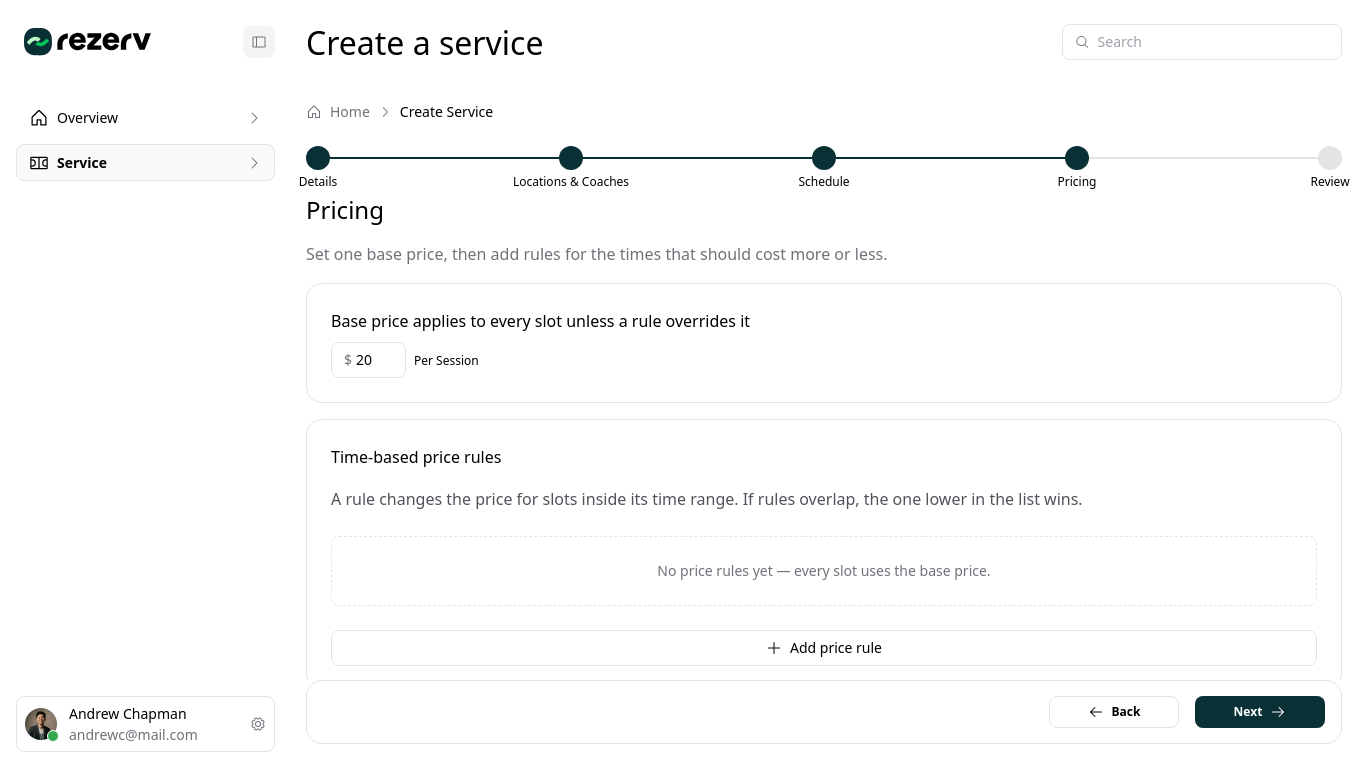
Test: Add price rule appends a rule, and Remove takes it away
Expected: the text "No price rules yet — every slot uses the base price." is shown, x1=331 y1=536 x2=1317 y2=606
Click the button "Add price rule": click(824, 648) x1=331 y1=630 x2=1317 y2=666
(page scrolled)
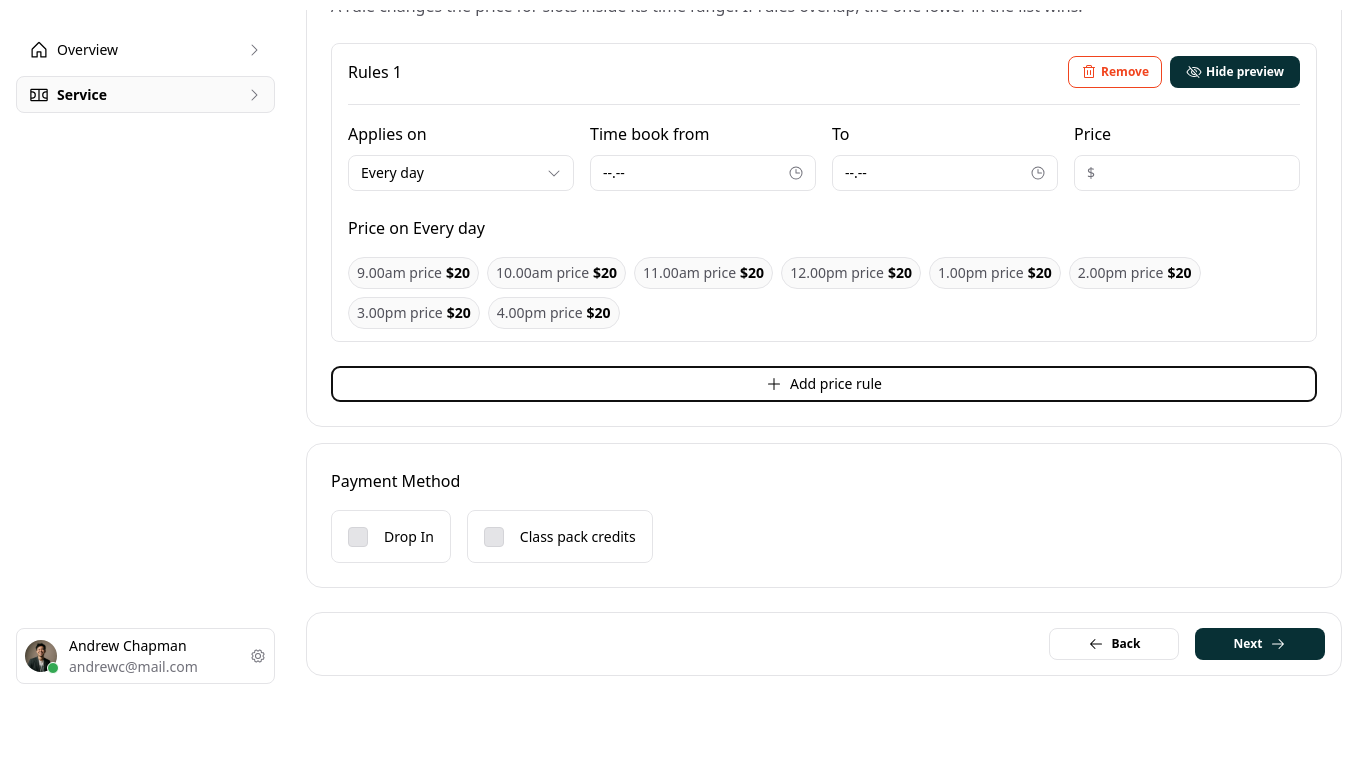
Expected: the text "Rules 1" is shown, x1=348 y1=59 x2=402 y2=85
Click the button "Add price rule": click(824, 384) x1=331 y1=366 x2=1317 y2=402
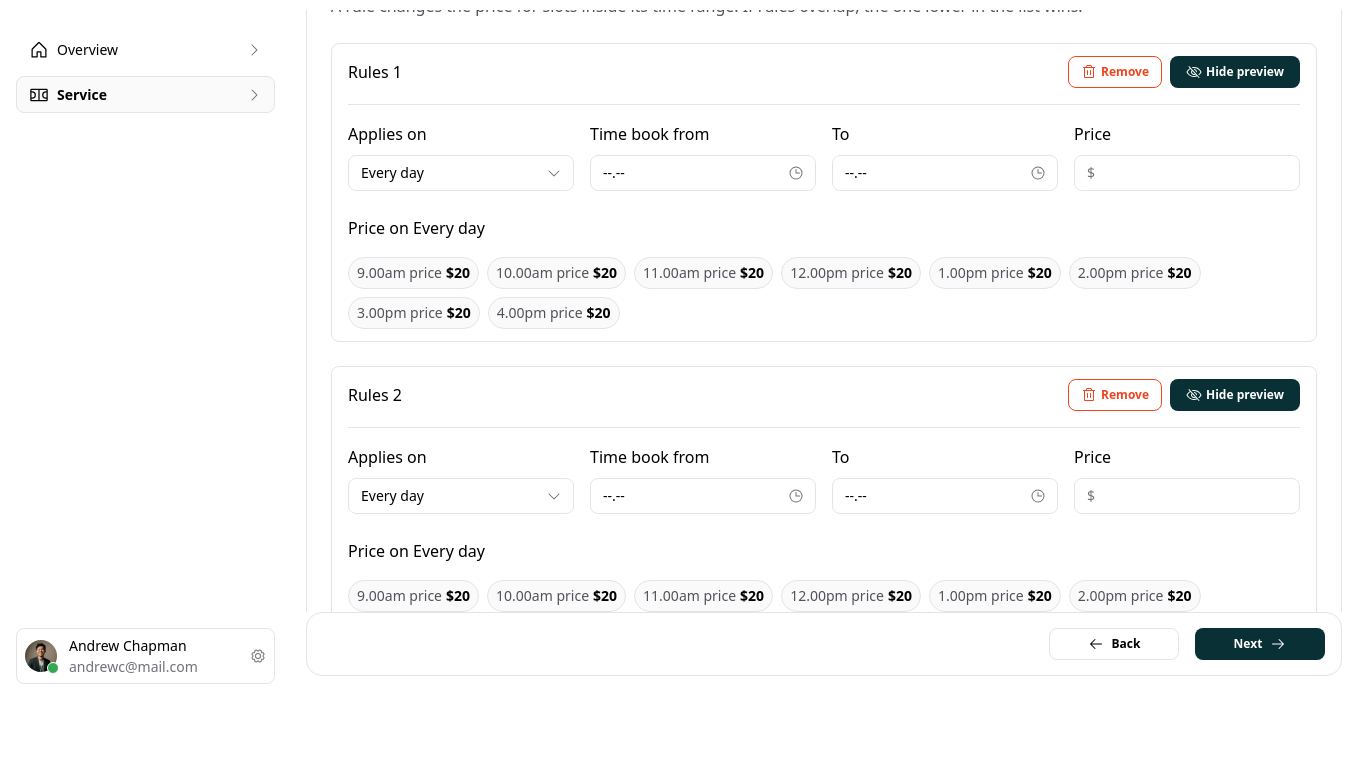
Expected: the text "Rules 2" is shown, x1=348 y1=382 x2=402 y2=408
Click the button with aria-label "Remove rule 1": click(1115, 72) x1=1068 y1=56 x2=1162 y2=88
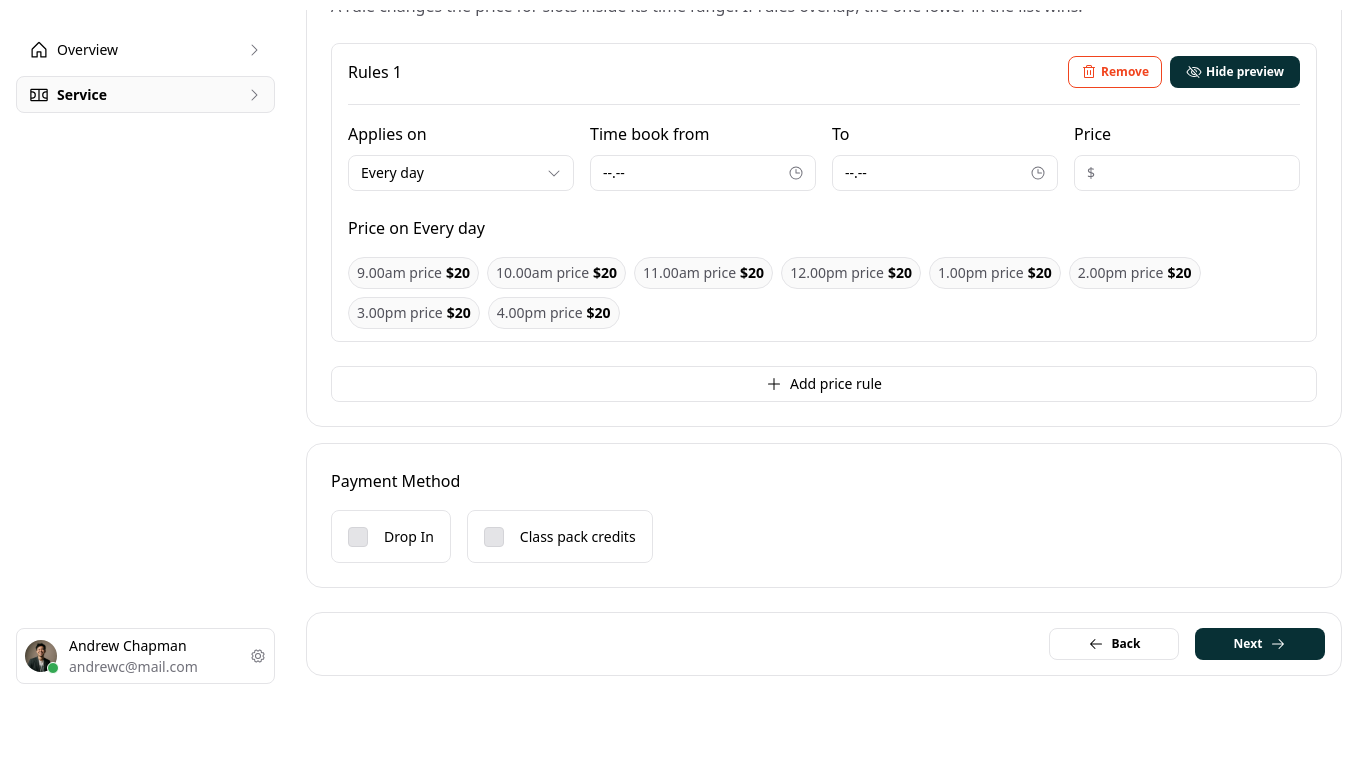
Expected: the text "Rules 1" is shown, x1=348 y1=59 x2=402 y2=85
Expected: the text "Rules 2" is gone
